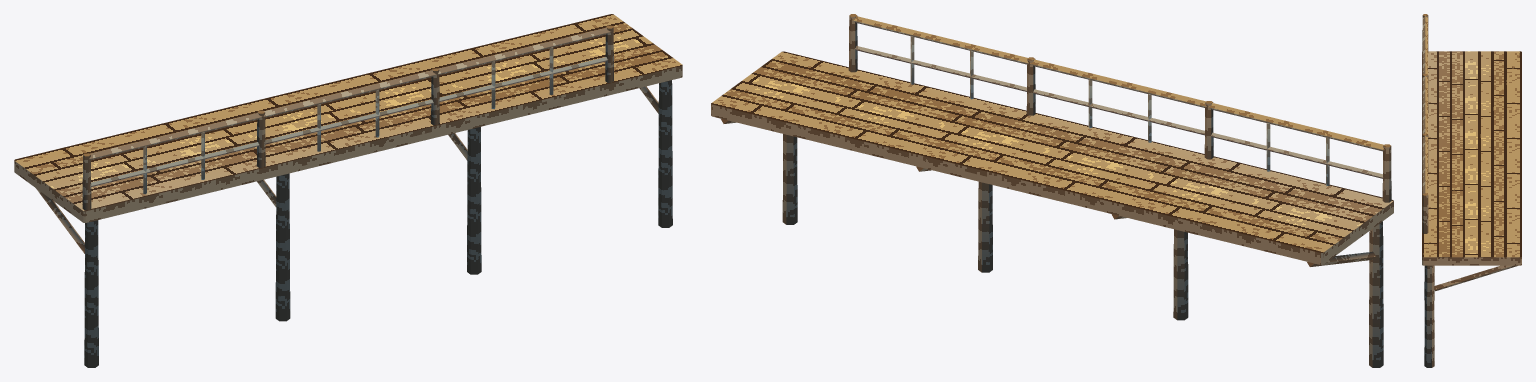
The model's file is wtown.gallery.glb.
The picture shows the model from 3 angles, left to right: view 1: azimuth 30°, elevation 25°; view 2: azimuth 150°, elevation 25°; view 3: azimuth 270°, elevation 25°; orthographic projection. The views are drawn at different scales.
Visible parts, largest first — view 1: kit_deck, kit_railing, kit_posts, kit_braces; view 2: kit_deck, kit_railing, kit_posts, kit_braces; view 3: kit_deck, kit_railing, kit_posts, kit_braces.
Part boxes in pixels (x1=…): kit_deck: x1=14, y1=14, x2=682, y2=222; kit_railing: x1=82, y1=25, x2=613, y2=210; kit_posts: x1=84, y1=80, x2=672, y2=367; kit_braces: x1=36, y1=86, x2=658, y2=253; kit_deck: x1=711, y1=51, x2=1393, y2=264; kit_railing: x1=848, y1=14, x2=1391, y2=202; kit_posts: x1=782, y1=134, x2=1383, y2=367; kit_braces: x1=721, y1=119, x2=1376, y2=266; kit_deck: x1=1422, y1=51, x2=1521, y2=265; kit_railing: x1=1422, y1=14, x2=1428, y2=233; kit_posts: x1=1424, y1=265, x2=1434, y2=367; kit_braces: x1=1434, y1=265, x2=1517, y2=291.
Size of the model in its own units: 11.72 by 4.01 by 2.4.
Materials: 4 (4 with a texture image).
